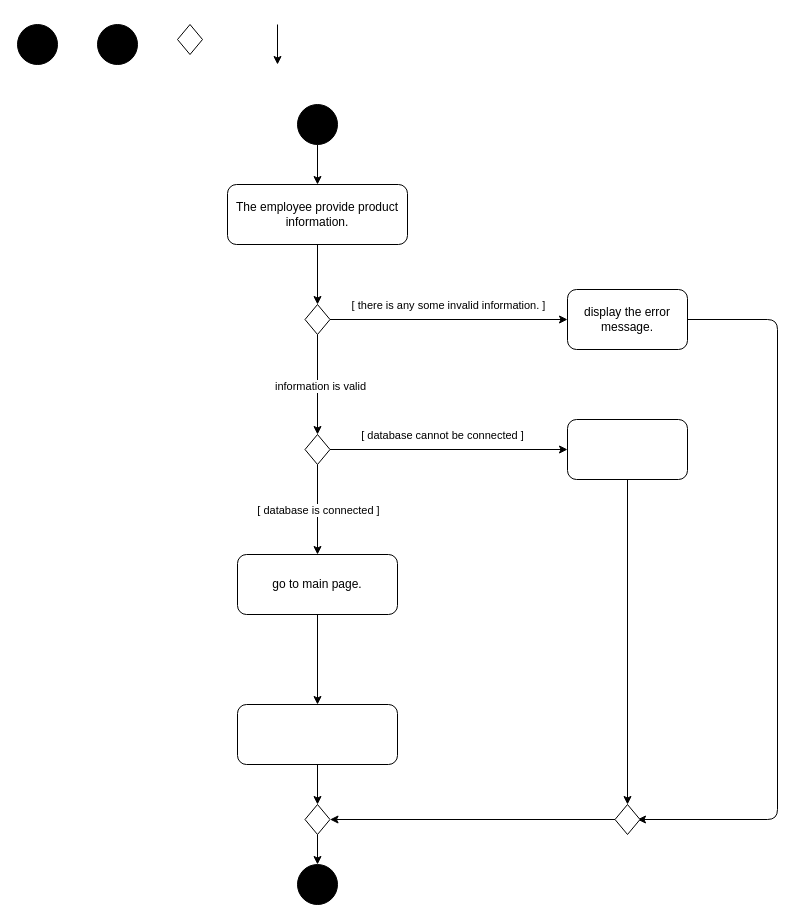
This 803x922 diagram has some shape labels left out. The shapes that lost their labels are listed below. From the top down, each one's centre as x and y in pixels, then its label:
(627,449): display the message "the database cannot be connected."
(317,734): the information is stored in the database.
